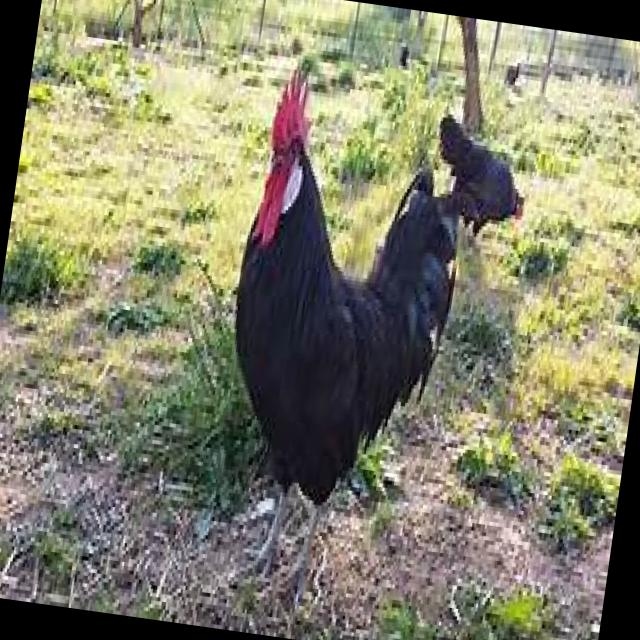chicken: (208, 74, 482, 536), (426, 112, 539, 245)
